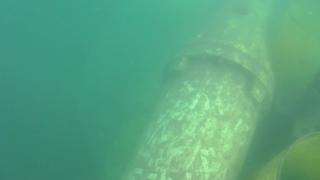pipe: (118, 1, 273, 179), (272, 1, 320, 99), (256, 130, 320, 180)
